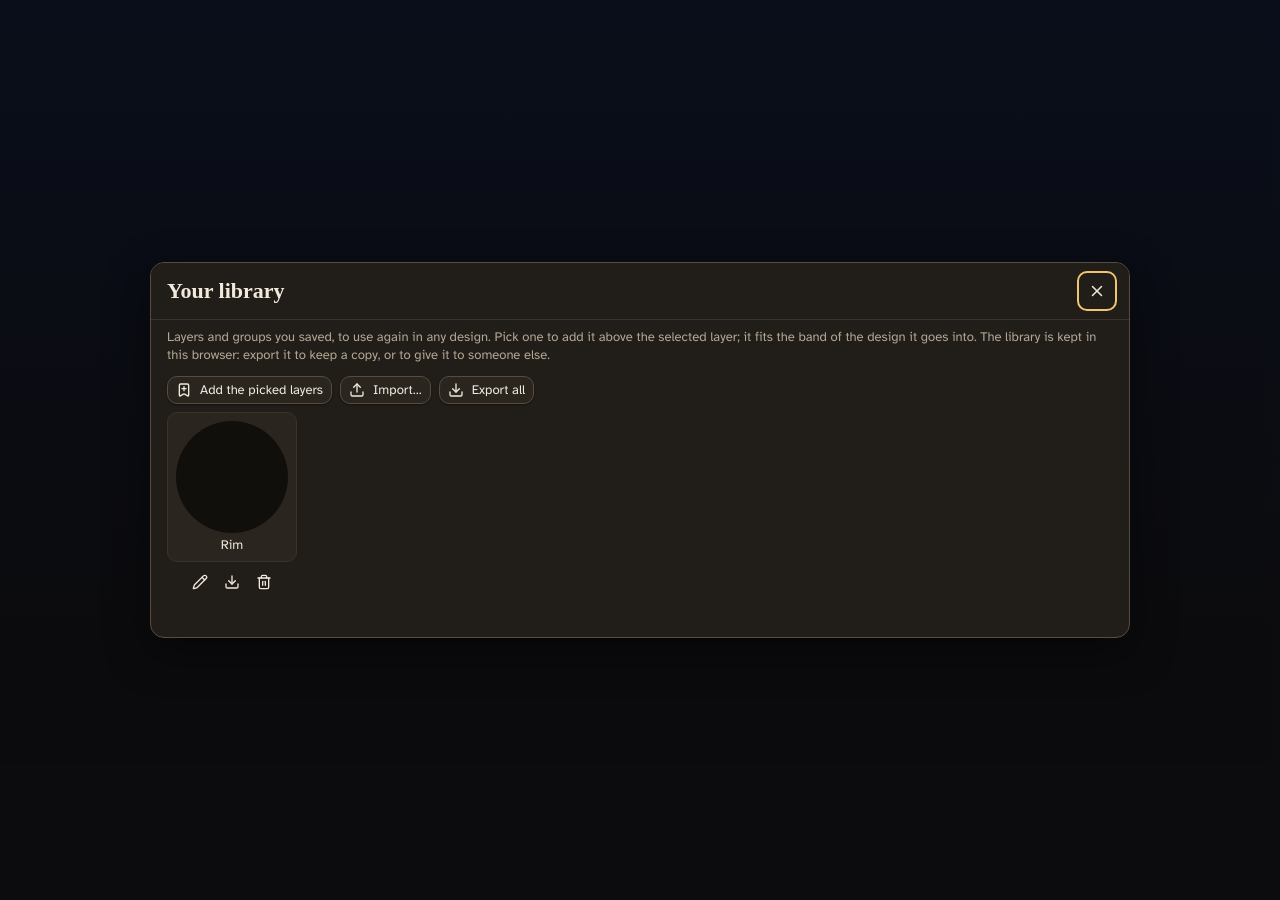
Test: the library dialog › renames and removes items, and says when it is empty
Click the button named "Rename Rim": [200, 582] box [184, 566, 216, 598]
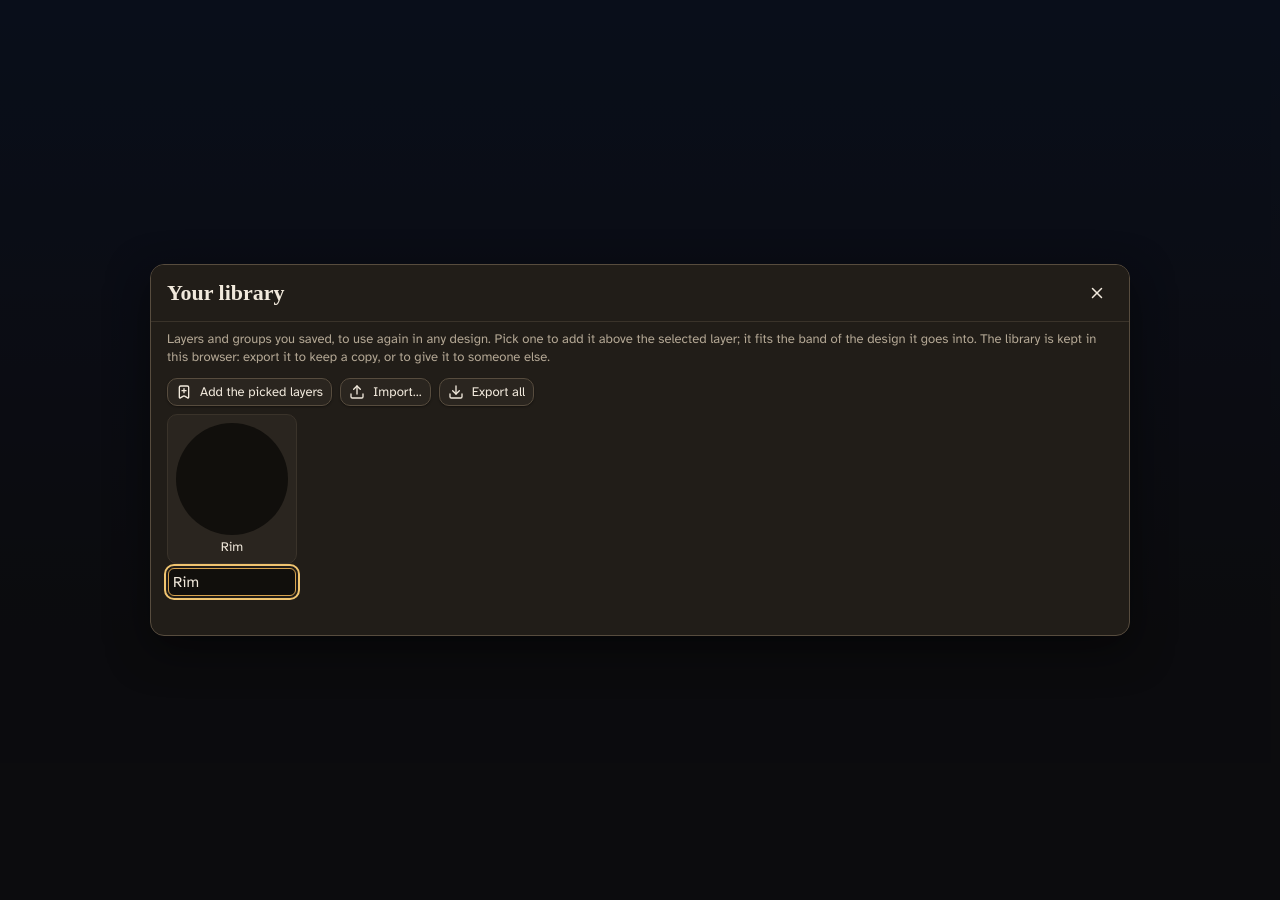
Replace the text in the field named "Item name" with "Gold rim": [232, 582] box [168, 568, 296, 596]
Then press Enter
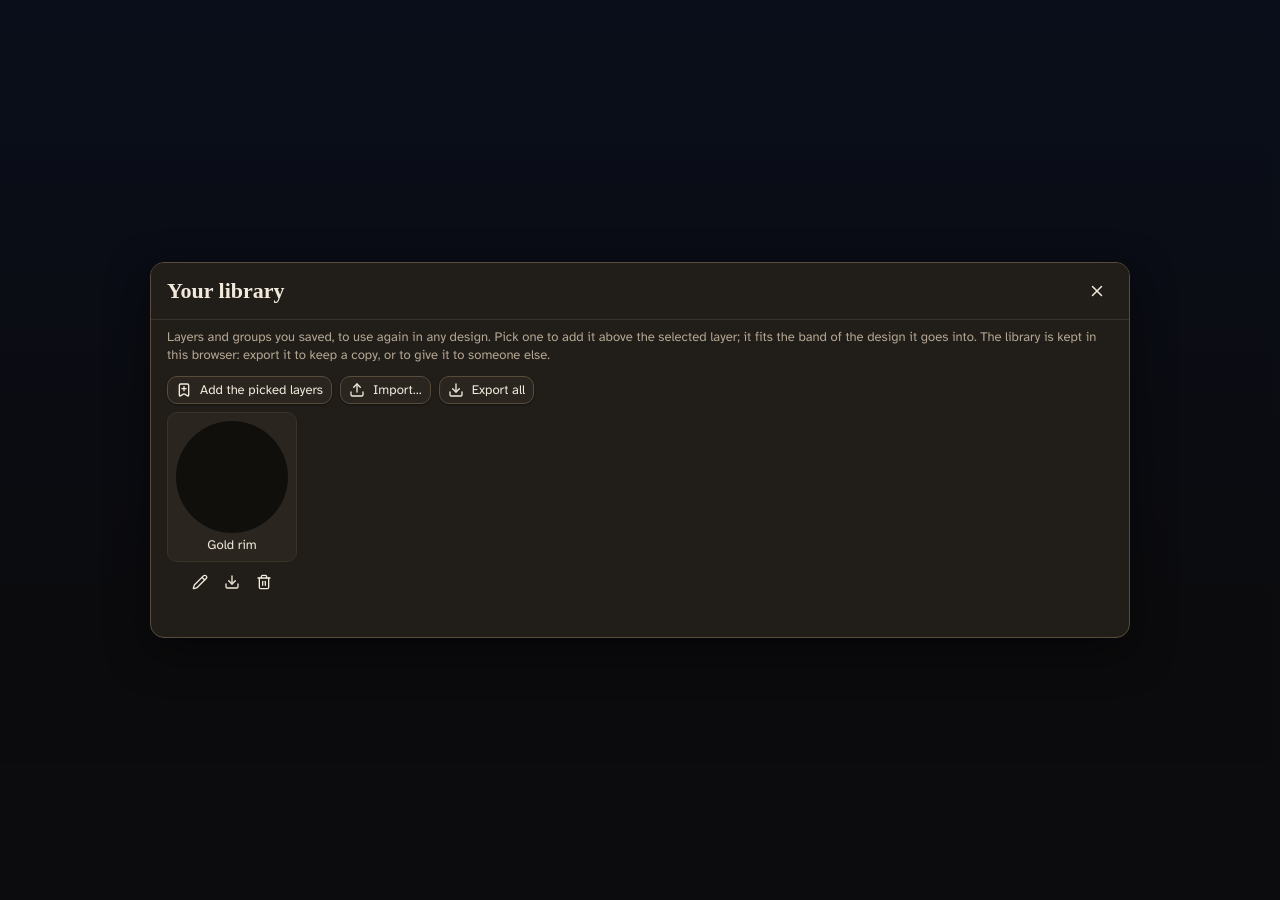
Result: the text "Gold rim" is shown at [207, 537, 257, 553]
Click the button named "Remove Gold rim": [264, 582] box [248, 566, 280, 598]
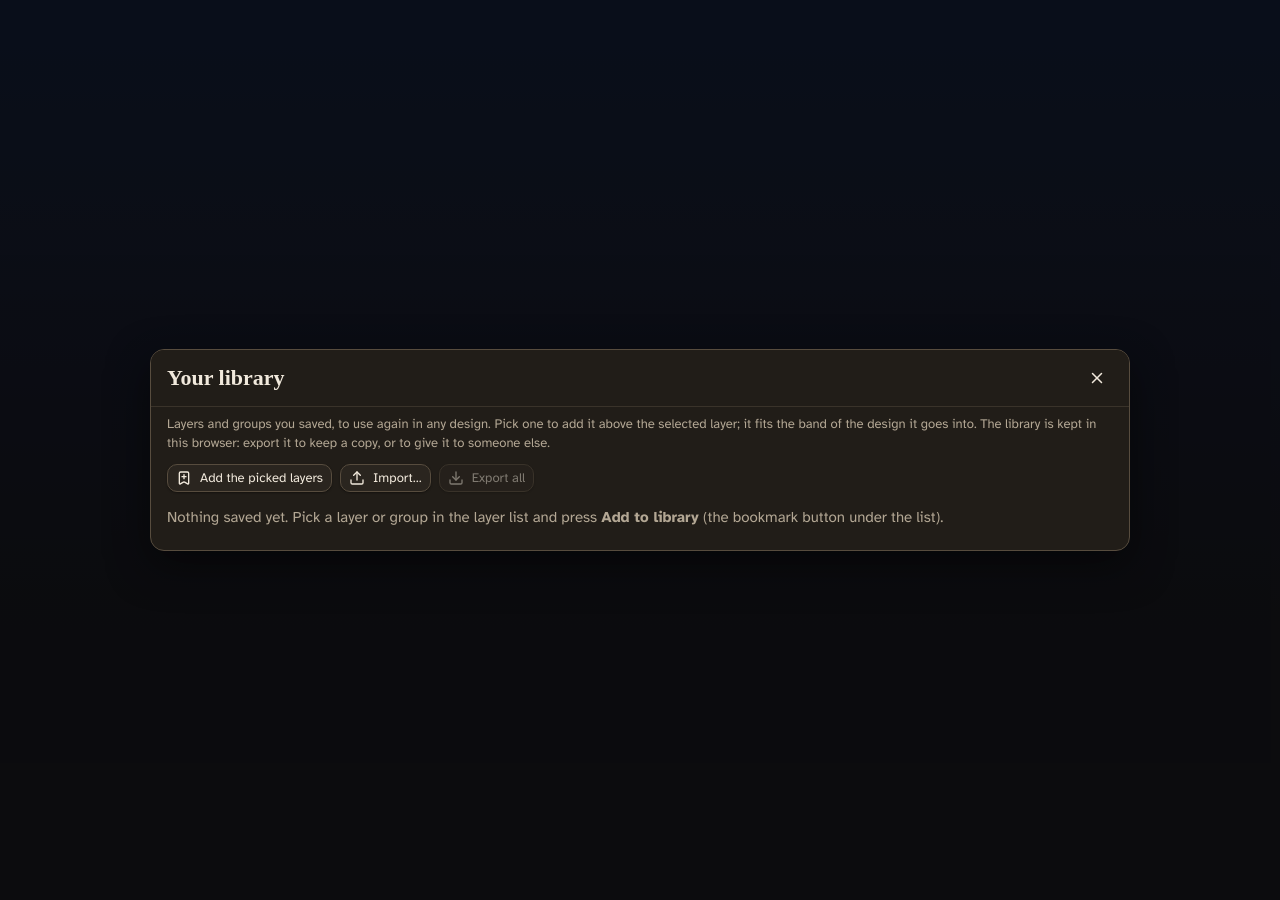
Result: the text "Nothing saved yet" is shown at [167, 508, 601, 526]
